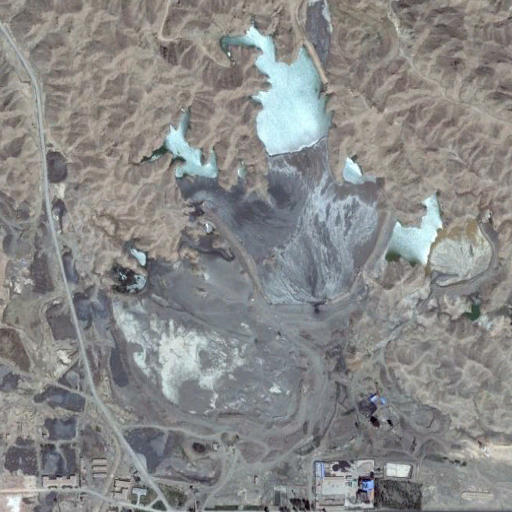tp: (160, 24, 396, 322), (112, 300, 339, 448)
